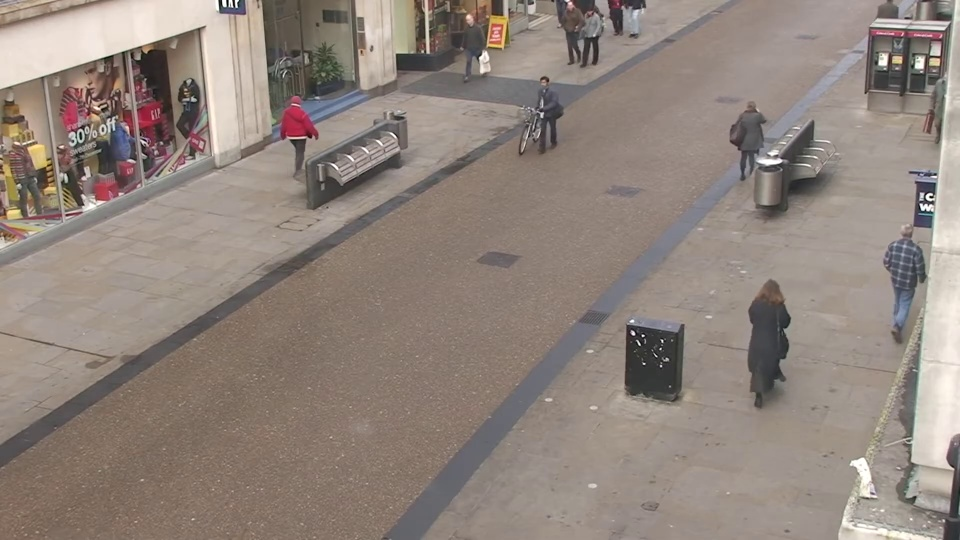pedestrian: (747, 263, 795, 398), (878, 210, 930, 332), (286, 91, 319, 179), (735, 95, 767, 185), (527, 74, 556, 159), (453, 13, 477, 80), (576, 5, 598, 70), (557, 0, 579, 64)
